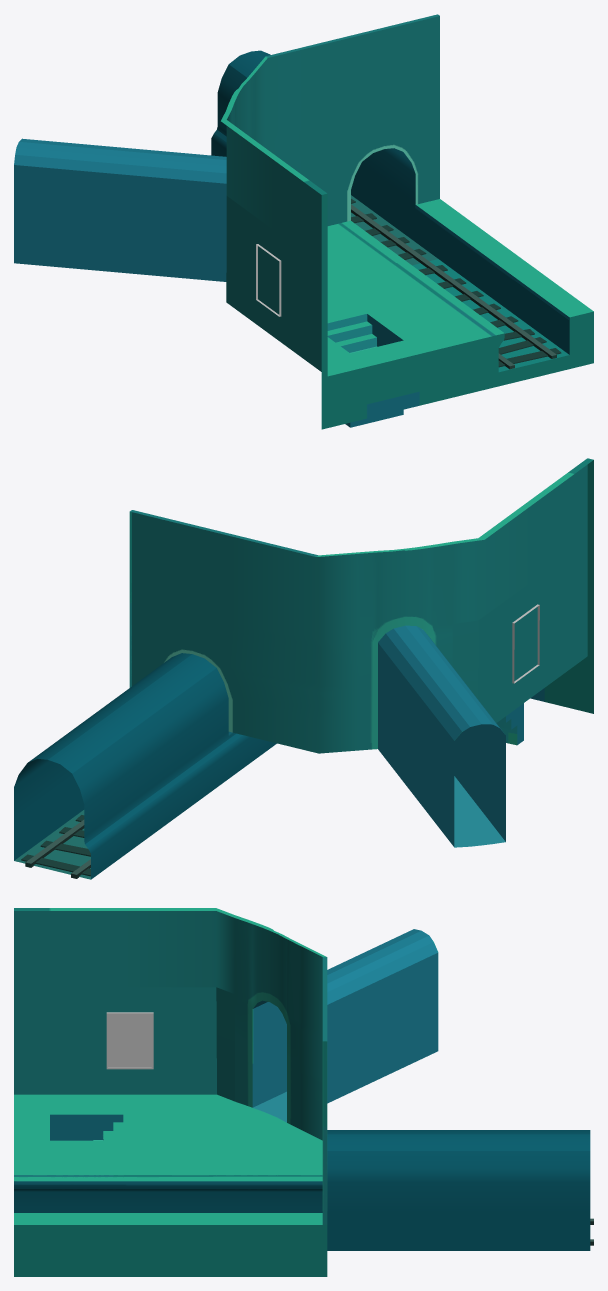
The model's file is station 5.fbx.
The picture shows the model from 3 angles, top to bottom: view 1: azimuth 30°, elevation 25°; view 2: azimuth 150°, elevation 25°; view 3: azimuth 270°, elevation 25°; orthographic projection. The views are drawn at different scales.
Visible parts, largest first — view 1: env_9, track_9; view 2: env_9, track_9; view 3: env_9, pCube87.
Boxes of the visible parts, x1,y1,x2,y2 form: env_9: [14, 14, 593, 429]; track_9: [351, 199, 561, 369]; env_9: [14, 458, 593, 879]; track_9: [21, 815, 90, 878]; env_9: [14, 908, 590, 1276]; pCube87: [106, 1012, 153, 1069].
Bounding box in the file's own units: 28.62 × 18.25 × 37.16.
